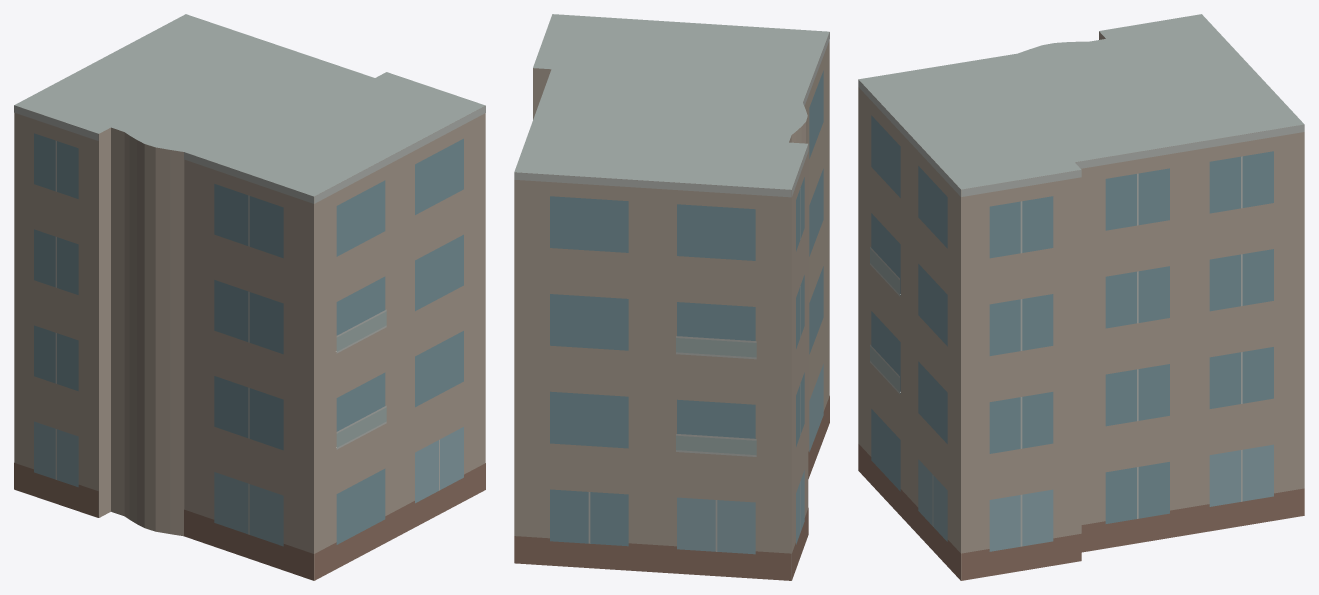
The model's file is survey-upis-32941754.glb.
3 views of the same model, side by side, from view 1: azimuth 30°, elevation 25°; view 2: azimuth 150°, elevation 25°; view 3: azimuth 270°, elevation 25° (orthographic).
Parts seen in each view (by area): view 1: survey-upis-32941754.tmp; view 2: survey-upis-32941754.tmp; view 3: survey-upis-32941754.tmp.
Boxes of the visible parts, box(x1,y1,x2,y2) form: survey-upis-32941754.tmp: box(14, 14, 485, 580); survey-upis-32941754.tmp: box(514, 14, 829, 580); survey-upis-32941754.tmp: box(858, 14, 1304, 580).
Bounding box in the file's own units: 12.24 × 12.7 × 13.14.
